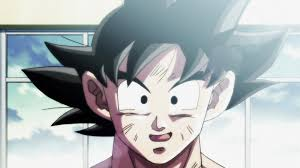Songoku: (105, 13, 215, 162)
